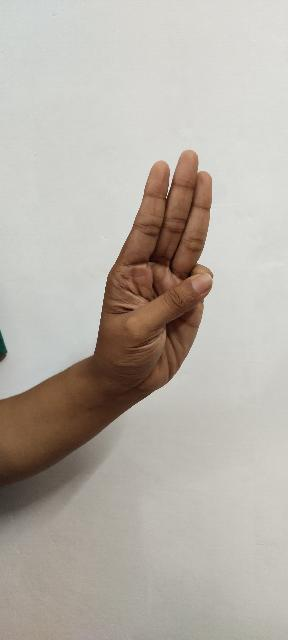trishool: (100, 136, 228, 412)
